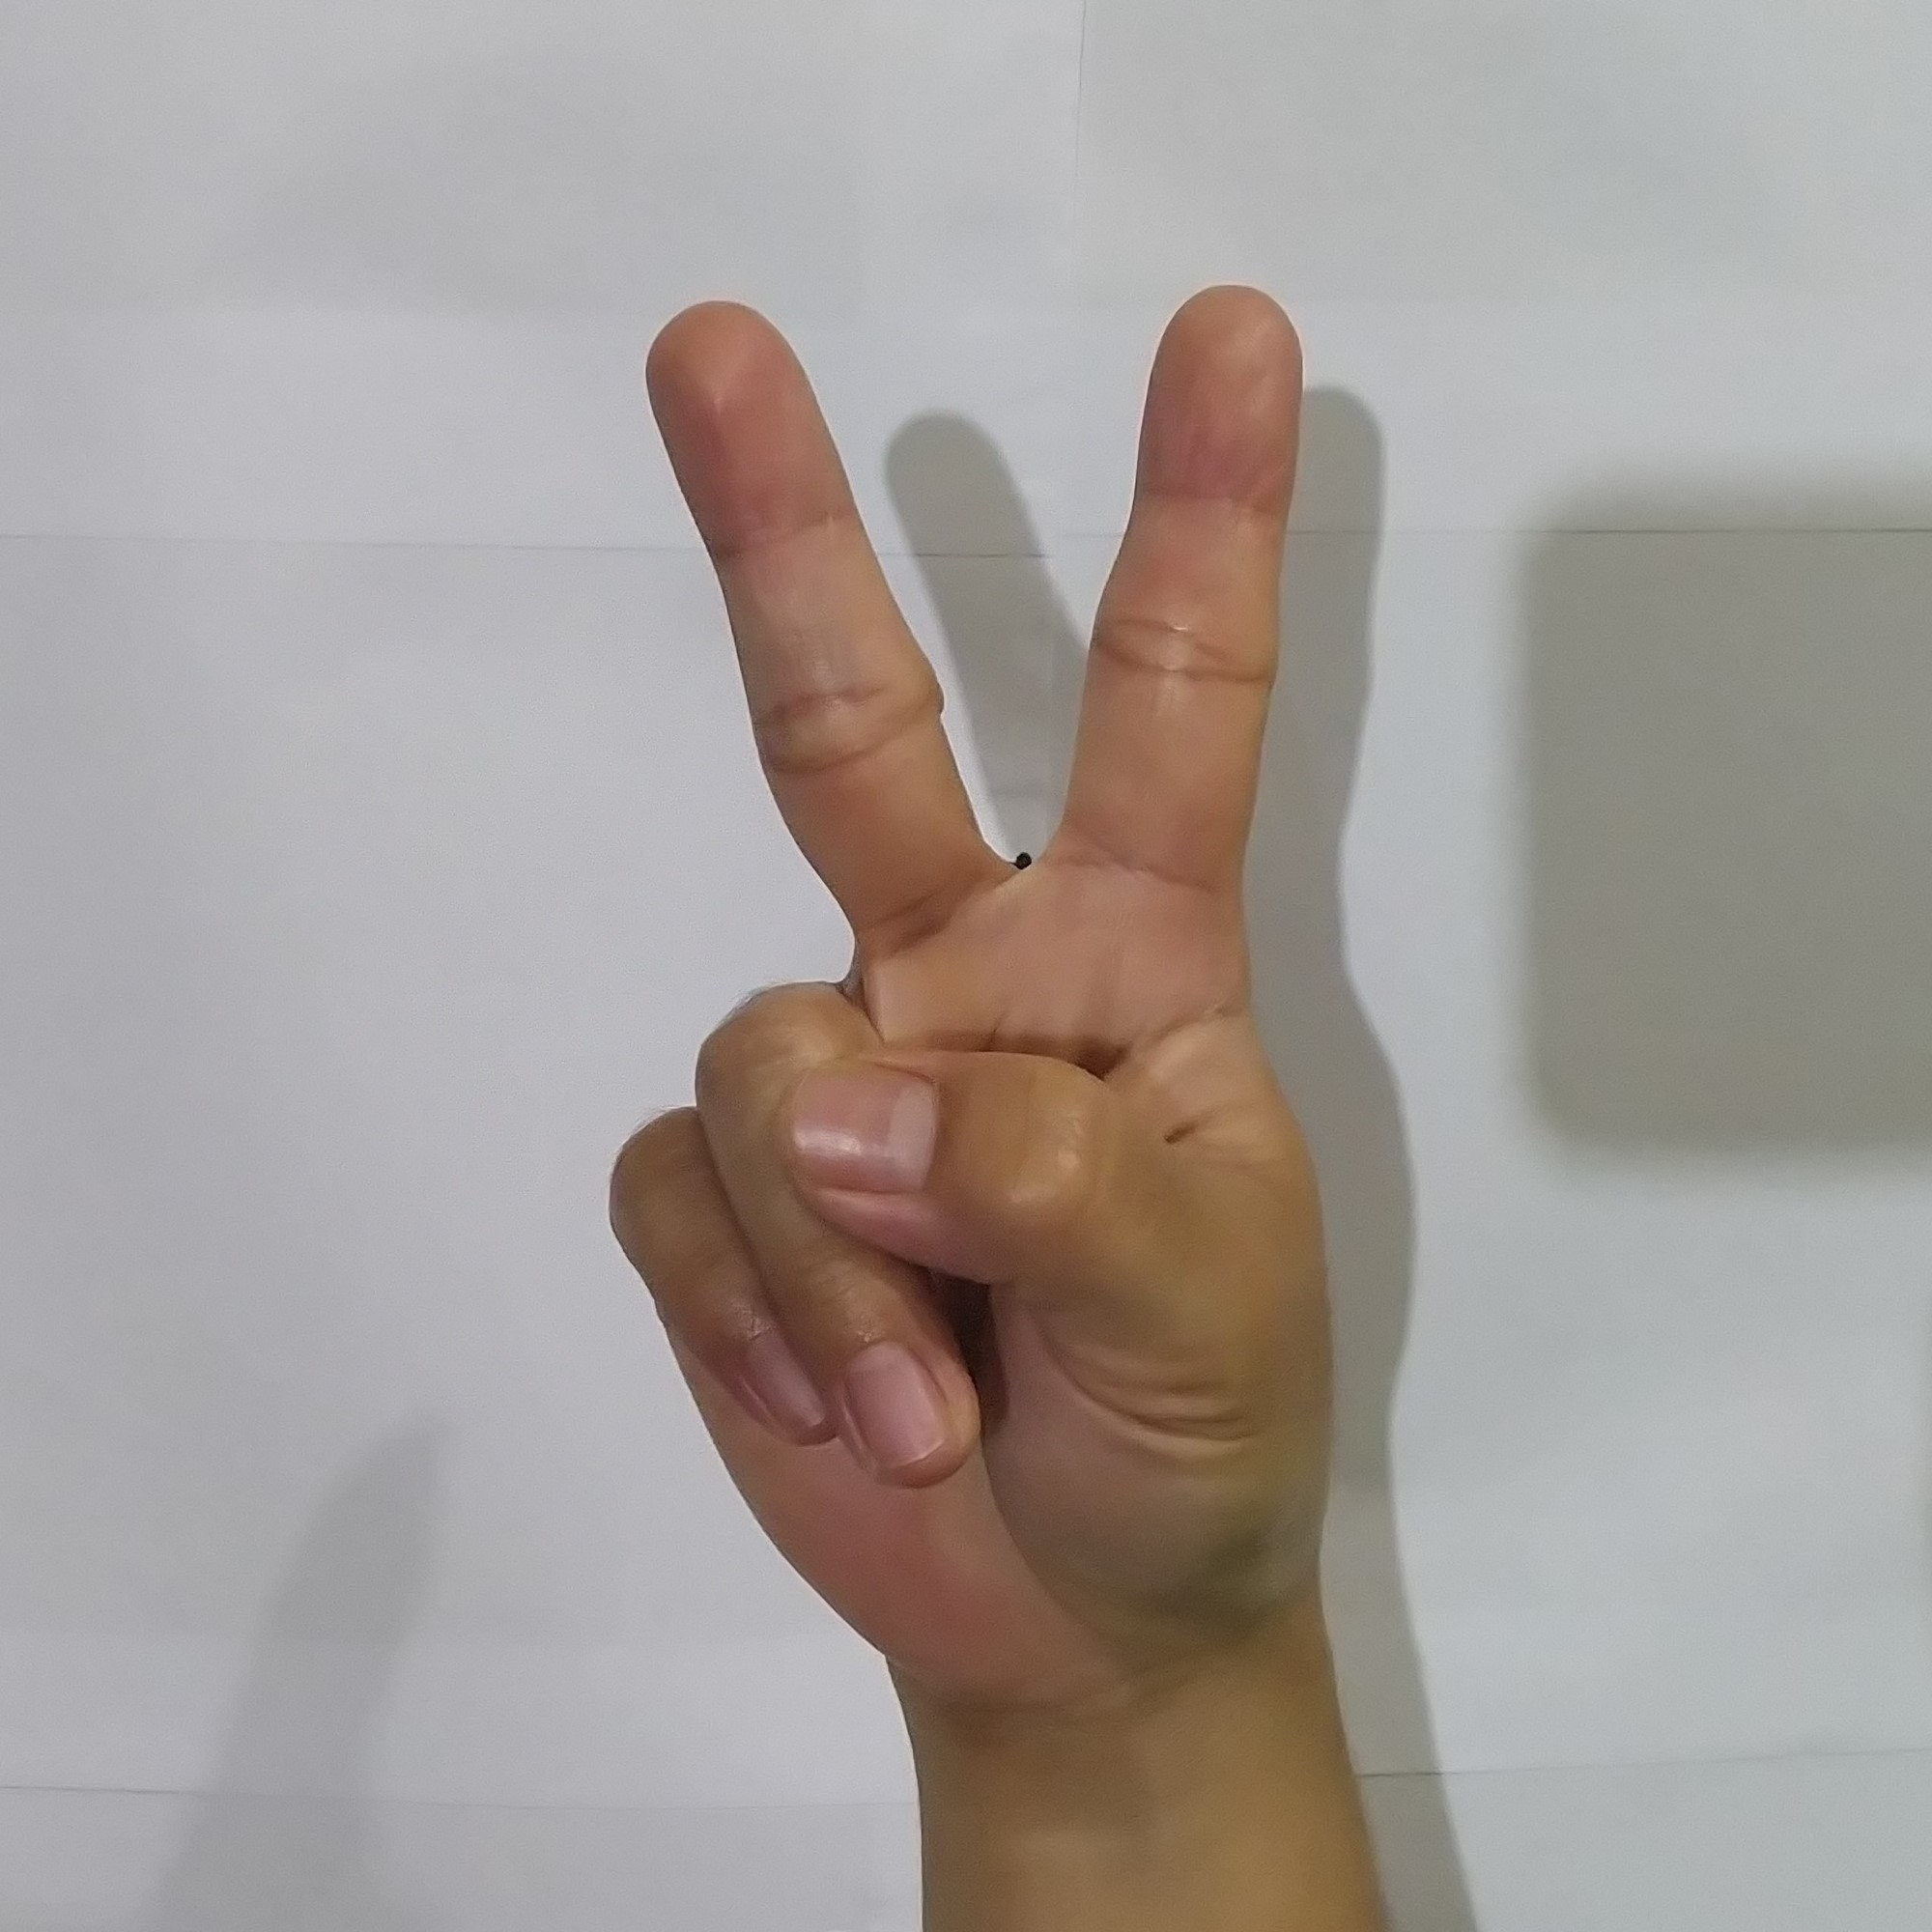V: (579, 258, 1385, 1656)
